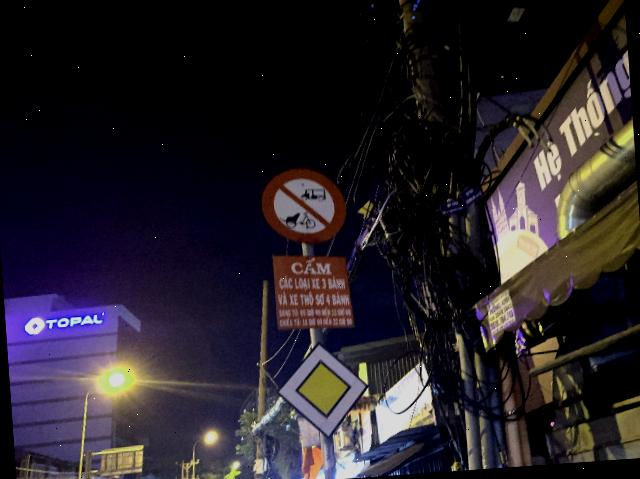bat-dau-duong-uu-tien: (274, 337, 374, 441)
cam-xe-3-banh-xe-tho-so-4-banh: (259, 164, 348, 246)
